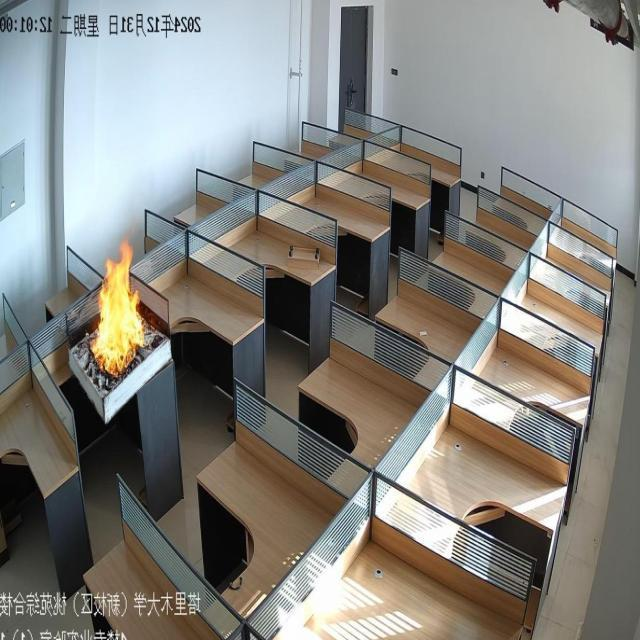smoke: (90, 227, 146, 377)
